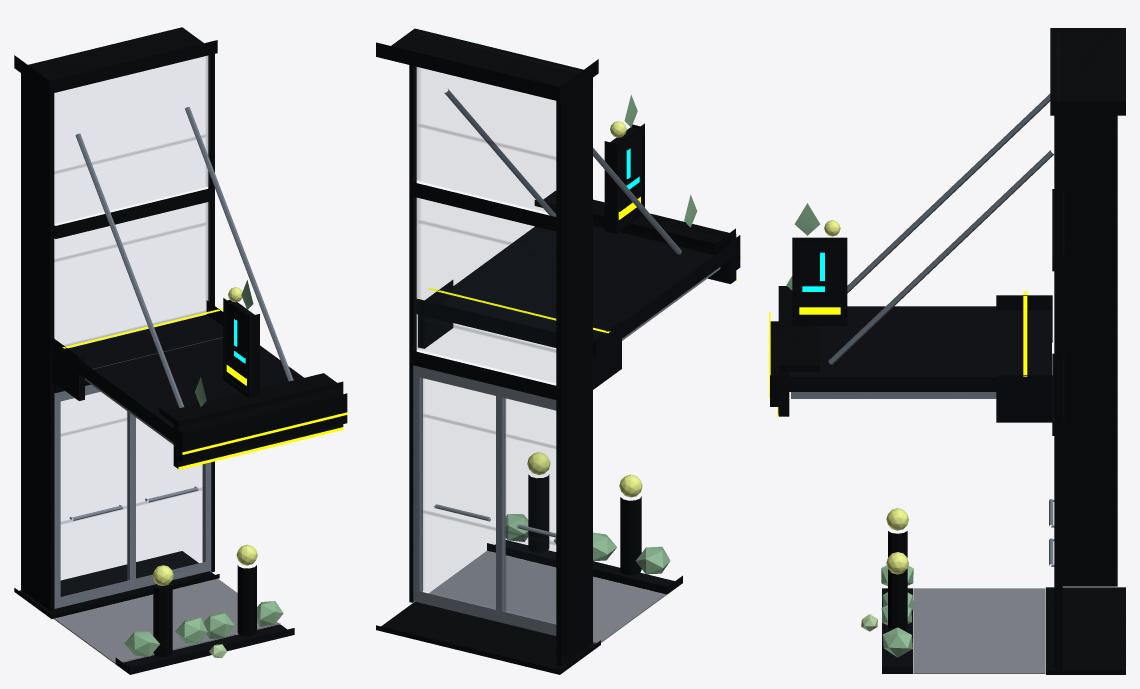
3 renders of one model, left to right at view 1: azimuth 30°, elevation 25°; view 2: azimuth 150°, elevation 25°; view 3: azimuth 270°, elevation 25°, orthographic. The views are drawn at different scales.
Parts seen in each view (by area): view 1: Frame, Canopy, Fascia_Gunmetal, Threshold_Mat, Door_Stiles, Tie_Rods, Ball_Bollards, Hedge_Edge, Terrace_Kerb, Fascia_Slate, Blade_Frame, Glass_Upper_00 (+5 smaller); view 2: Frame, Canopy, Threshold_Mat, Door_Stiles, Ball_Bollards, Fascia_Gunmetal, Glass_Upper_00, Terrace_Kerb, Tie_Rods, Hedge_Edge, Blade_Frame, Glass_Door_01 (+5 smaller); view 3: Frame, Canopy, Threshold_Mat, Tie_Rods, Blade_Core, Fascia_Gunmetal, Ball_Bollards, Canopy_Soffit, Hedge_Edge, Blade_Frame, Terrace_Kerb, Bollard_Balls (+2 smaller).
Boxes of the visible parts, x1,y1,x2,y2 form: Frame: [14, 27, 219, 618]; Canopy: [50, 300, 303, 442]; Fascia_Gunmetal: [159, 373, 347, 463]; Threshold_Mat: [53, 579, 280, 663]; Door_Stiles: [54, 384, 211, 608]; Tie_Rods: [75, 107, 293, 408]; Ball_Bollards: [153, 565, 256, 656]; Hedge_Edge: [124, 601, 283, 656]; Terrace_Kerb: [115, 624, 294, 674]; Fascia_Slate: [173, 387, 343, 468]; Blade_Frame: [223, 298, 259, 398]; Glass_Upper_00: [54, 202, 210, 346]; Frame: [376, 28, 600, 674]; Canopy: [416, 225, 730, 389]; Threshold_Mat: [429, 551, 666, 643]; Door_Stiles: [413, 365, 556, 635]; Ball_Bollards: [528, 474, 641, 575]; Fascia_Gunmetal: [534, 190, 740, 269]; Glass_Upper_00: [414, 197, 555, 352]; Terrace_Kerb: [487, 540, 682, 594]; Tie_Rods: [444, 89, 681, 254]; Hedge_Edge: [505, 514, 670, 574]; Blade_Frame: [604, 123, 644, 233]; Glass_Door_01: [421, 378, 495, 590]; Frame: [1046, 28, 1125, 674]; Canopy: [788, 295, 1052, 422]; Threshold_Mat: [913, 588, 1045, 673]; Tie_Rods: [828, 93, 1054, 364]; Blade_Core: [795, 243, 844, 320]; Fascia_Gunmetal: [770, 286, 819, 406]; Ball_Bollards: [888, 531, 907, 632]; Canopy_Soffit: [791, 392, 996, 398]; Hedge_Edge: [881, 565, 913, 657]; Blade_Frame: [792, 237, 847, 325]; Terrace_Kerb: [882, 588, 912, 673]; Bollard_Balls: [886, 508, 908, 574].
Size of the model in its own units: 2 by 6.1 by 3.44.
11 materials, 5 textured.
